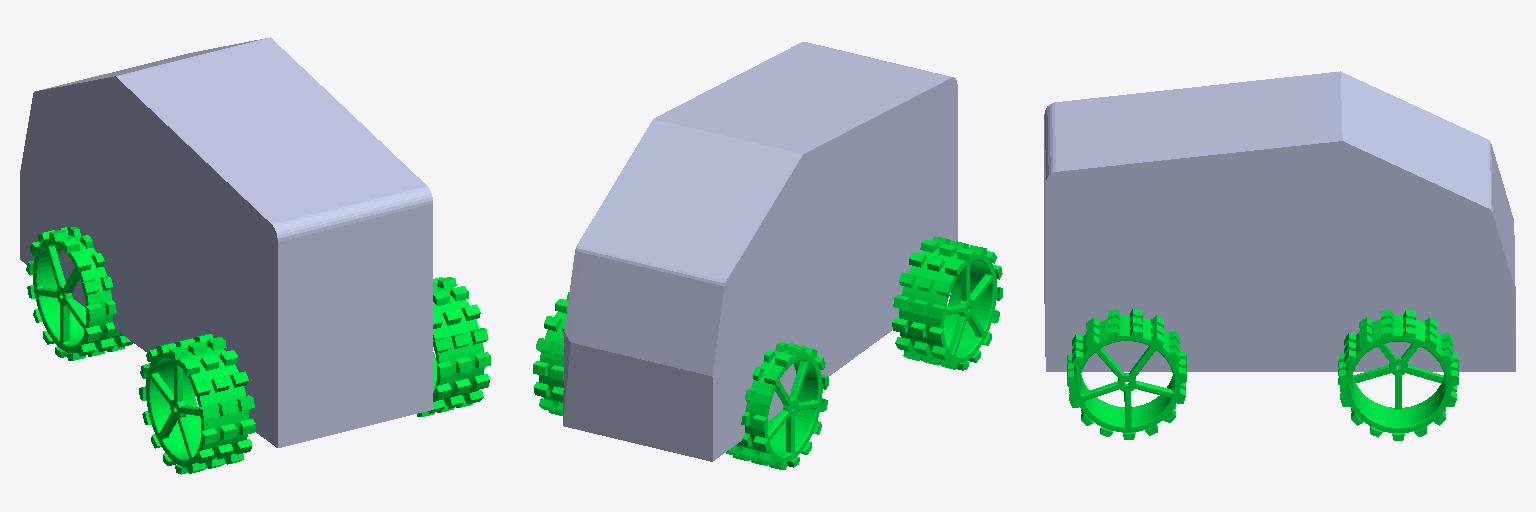
The robot description file, URDF, robot "main_car":
<?xml version="1.0" encoding="utf-8"?>
<!-- This URDF was automatically created by SolidWorks to URDF Exporter! Originally created by Stephen Brawner (brawner@gmail.com) 
     Commit Version: 1.6.0-4-g7f85cfe  Build Version: 1.6.7995.38578
     For more information, please see http://wiki.ros.org/sw_urdf_exporter -->
<robot
  name="main_car">
  <link
    name="base_link">
    <inertial>
      <origin
        xyz="0.0530673653634435 0.091337893593515 0.0594021087043407"
        rpy="0 0 0" />
      <mass
        value="0.616866978201299" />
      <inertia
        ixx="0.00451892150568516"
        ixy="-4.61819811352611E-08"
        ixz="-2.58614294696865E-09"
        iyy="0.000759940780752405"
        iyz="-0.000120732123334739"
        izz="0.00403473432084843" />
    </inertial>
    <visual>
      <origin
        xyz="0 0 0"
        rpy="0 0 0" />
      <geometry>
        <mesh
          filename="package://main_car/meshes/base_link.STL" />
      </geometry>
      <material
        name="">
        <color
          rgba="0.792156862745098 0.819607843137255 0.933333333333333 1" />
      </material>
    </visual>
    <collision>
      <origin
        xyz="0 0 0"
        rpy="0 0 0" />
      <geometry>
        <mesh
          filename="package://main_car/meshes/base_link.STL" />
      </geometry>
    </collision>
  </link>
  <link
    name="front_left_wheel_rot">
    <inertial>
      <origin
        xyz="0.0140059336705225 -0.000298132524582662 2.0135971015578E-11"
        rpy="0 0 0" />
      <mass
        value="0.0632357163080549" />
      <inertia
        ixx="9.19085546063061E-05"
        ixy="-8.09825500043694E-07"
        ixz="1.25132504922793E-14"
        iyy="5.38810910412805E-05"
        iyz="2.26921494959108E-14"
        izz="5.38638529227305E-05" />
    </inertial>
    <visual>
      <origin
        xyz="0 0 0"
        rpy="0 0 0" />
      <geometry>
        <mesh
          filename="package://main_car/meshes/front_left_wheel_rot.STL" />
      </geometry>
      <material
        name="">
        <color
          rgba="0 0.96078431372549 0.298039215686275 1" />
      </material>
    </visual>
    <collision>
      <origin
        xyz="0 0 0"
        rpy="0 0 0" />
      <geometry>
        <mesh
          filename="package://main_car/meshes/front_left_wheel_rot.STL" />
      </geometry>
    </collision>
  </link>
  <joint
    name="front_left_wheel_rot_j"
    type="continuous">
    <origin
      xyz="-0.0212429479041969 0.211254558119221 0.0117"
      rpy="0 0 0" />
    <parent
      link="base_link" />
    <child
      link="front_left_wheel_rot" />
    <axis
      xyz="0.999773526729787 -0.0212813357260371 0" />
  </joint>
  <link
    name="front_right_wheel_rot">
    <inertial>
      <origin
        xyz="-0.0140091063539903 3.84884683179987E-07 2.00283227502762E-11"
        rpy="0 0 0" />
      <mass
        value="0.063235716308098" />
      <inertia
        ixx="9.1925792684697E-05"
        ixy="-1.04565885402228E-09"
        ixz="-1.11220426362072E-14"
        iyy="5.38638529697828E-05"
        iyz="2.26052393516739E-14"
        izz="5.38638529842843E-05" />
    </inertial>
    <visual>
      <origin
        xyz="0 0 0"
        rpy="0 0 0" />
      <geometry>
        <mesh
          filename="package://main_car/meshes/front_right_wheel_rot.STL" />
      </geometry>
      <material
        name="">
        <color
          rgba="0 0.96078431372549 0.298039215686275 1" />
      </material>
    </visual>
    <collision>
      <origin
        xyz="0 0 0"
        rpy="0 0 0" />
      <geometry>
        <mesh
          filename="package://main_car/meshes/front_right_wheel_rot.STL" />
      </geometry>
    </collision>
  </link>
  <joint
    name="front_right_wheel_rot_j"
    type="continuous">
    <origin
      xyz="0.131 0.21075 0.0117"
      rpy="0 0 0" />
    <parent
      link="base_link" />
    <child
      link="front_right_wheel_rot" />
    <axis
      xyz="0.99977 -0.021281 0" />
  </joint>
  <link
    name="back_right_wheel_rot">
    <inertial>
      <origin
        xyz="-0.0140091063592719 2.58148277060277E-11 2.29432965681564E-12"
        rpy="0 0 0" />
      <mass
        value="0.0632357163080607" />
      <inertia
        ixx="9.19257927656535E-05"
        ixy="-2.17969582614652E-14"
        ixz="3.00934958865257E-15"
        iyy="5.38638529938994E-05"
        iyz="-1.47880436948043E-15"
        izz="5.38638529836592E-05" />
    </inertial>
    <visual>
      <origin
        xyz="0 0 0"
        rpy="0 0 0" />
      <geometry>
        <mesh
          filename="package://main_car/meshes/back_right_wheel_rot.STL" />
      </geometry>
      <material
        name="">
        <color
          rgba="0 0.96078431372549 0.298039215686275 1" />
      </material>
    </visual>
    <collision>
      <origin
        xyz="0 0 0"
        rpy="0 0 0" />
      <geometry>
        <mesh
          filename="package://main_car/meshes/back_right_wheel_rot.STL" />
      </geometry>
    </collision>
  </link>
  <joint
    name="back_right_wheel_rot_j"
    type="continuous">
    <origin
      xyz="0.16615 0.0085 0.0147"
      rpy="0 0 0" />
    <parent
      link="base_link" />
    <child
      link="back_right_wheel_rot" />
    <axis
      xyz="1 0 0" />
  </joint>
  <link
    name="back_left_wheel_rot">
    <inertial>
      <origin
        xyz="0.0140091063592776 2.88695456429622E-11 -1.99775005566005E-11"
        rpy="0 0 0" />
      <mass
        value="0.0632357163080669" />
      <inertia
        ixx="9.19257927664119E-05"
        ixy="2.78823040490674E-14"
        ixz="-1.11055930818235E-14"
        iyy="5.38638529869598E-05"
        iyz="-1.53344977748203E-17"
        izz="5.38638529913604E-05" />
    </inertial>
    <visual>
      <origin
        xyz="0 0 0"
        rpy="0 0 0" />
      <geometry>
        <mesh
          filename="package://main_car/meshes/back_left_wheel_rot.STL" />
      </geometry>
      <material
        name="">
        <color
          rgba="0 0.96078431372549 0.298039215686275 1" />
      </material>
    </visual>
    <collision>
      <origin
        xyz="0 0 0"
        rpy="0 0 0" />
      <geometry>
        <mesh
          filename="package://main_car/meshes/back_left_wheel_rot.STL" />
      </geometry>
    </collision>
  </link>
  <joint
    name="back_left_wheel_rot_j"
    type="continuous">
    <origin
      xyz="-0.0488500000002041 0.00849999999999978 0.0147000000000001"
      rpy="0 0 0" />
    <parent
      link="base_link" />
    <child
      link="back_left_wheel_rot" />
    <axis
      xyz="1 0 0" />
  </joint>
  <link
    name="front_left_wheel_steer">
    <inertial>
      <origin
        xyz="0.0140059336705225 -0.000298132524582634 2.01359692808545E-11"
        rpy="0 0 0" />
      <mass
        value="0.0632357163080549" />
      <inertia
        ixx="9.19085546063061E-05"
        ixy="-8.09825500043695E-07"
        ixz="1.25132506942277E-14"
        iyy="5.38810910412805E-05"
        iyz="2.2692149103525E-14"
        izz="5.38638529227305E-05" />
    </inertial>
    <visual>
      <origin
        xyz="0 0 0"
        rpy="0 0 0" />
      <geometry>
        <mesh
          filename="package://main_car/meshes/front_left_wheel_steer.STL" />
      </geometry>
      <material
        name="">
        <color
          rgba="0 0.96078431372549 0.298039215686275 1" />
      </material>
    </visual>
    <collision>
      <origin
        xyz="0 0 0"
        rpy="0 0 0" />
      <geometry>
        <mesh
          filename="package://main_car/meshes/front_left_wheel_steer.STL" />
      </geometry>
    </collision>
  </link>
  <joint
    name="front_left_wheel_steer_j"
    type="revolute">
    <origin
      xyz="-0.021243 0.21125 0.0117"
      rpy="0 0 0" />
    <parent
      link="base_link" />
    <child
      link="front_left_wheel_steer" />
    <axis
      xyz="0 0 -1" />
    <limit
      lower="5.6723"
      upper="0.61087"
      effort="0"
      velocity="0.5" />
  </joint>
  <link
    name="front_right_wheel_steer">
    <inertial>
      <origin
        xyz="-0.0140091063539903 3.84884683179987E-07 2.00283210155527E-11"
        rpy="0 0 0" />
      <mass
        value="0.063235716308098" />
      <inertia
        ixx="9.1925792684697E-05"
        ixy="-1.04565885402314E-09"
        ixz="-1.11220428123062E-14"
        iyy="5.38638529697828E-05"
        iyz="2.26052384346766E-14"
        izz="5.38638529842843E-05" />
    </inertial>
    <visual>
      <origin
        xyz="0 0 0"
        rpy="0 0 0" />
      <geometry>
        <mesh
          filename="package://main_car/meshes/front_right_wheel_steer.STL" />
      </geometry>
      <material
        name="">
        <color
          rgba="0 0.96078431372549 0.298039215686275 1" />
      </material>
    </visual>
    <collision>
      <origin
        xyz="0 0 0"
        rpy="0 0 0" />
      <geometry>
        <mesh
          filename="package://main_car/meshes/front_right_wheel_steer.STL" />
      </geometry>
    </collision>
  </link>
  <joint
    name="front_right_wheel_steer_j"
    type="revolute">
    <origin
      xyz="0.131 0.21075 0.0117"
      rpy="0 0 0" />
    <parent
      link="base_link" />
    <child
      link="front_right_wheel_steer" />
    <axis
      xyz="0 0 -1" />
    <limit
      lower="5.6723"
      upper="0.61087"
      effort="0"
      velocity="0.5" />
  </joint>
</robot>

--- Render facts (derived) ---
Views: 3 orthographic renders of the robot side by side, from view 1: azimuth 30°, elevation 25°; view 2: azimuth 150°, elevation 25°; view 3: azimuth 270°, elevation 25°.
Robot: main_car — 7 links, 6 joints (2 revolute, 4 continuous); root link base_link; default pose: joints at zero except 2 at the middle of their limits (front_left_wheel_steer_j = 3.14, front_right_wheel_steer_j = 3.14).
Visible links, largest first — view 1: base_link, back_left_wheel_rot, front_left_wheel_rot, back_right_wheel_rot; view 2: base_link, back_left_wheel_rot, front_left_wheel_rot, front_right_wheel_steer; view 3: base_link, front_right_wheel_steer, back_right_wheel_rot.
Boxes of the visible links, x1,y1,x2,y2 form: base_link: (20, 37, 432, 447); back_left_wheel_rot: (139, 334, 255, 474); front_left_wheel_rot: (26, 227, 132, 360); back_right_wheel_rot: (417, 277, 490, 416); base_link: (563, 42, 957, 461); back_left_wheel_rot: (892, 236, 1002, 370); front_left_wheel_rot: (726, 342, 828, 469); front_right_wheel_steer: (533, 292, 568, 415); base_link: (1044, 71, 1515, 371); front_right_wheel_steer: (1338, 309, 1458, 440); back_right_wheel_rot: (1067, 309, 1186, 439).
Size in the robot's own frame: 0.225 by 0.351 by 0.2232 metres.
Meshes: 7 distinct files referenced, 5 mesh visuals loaded (5 binary STL); not drawn: 2 (reference not matched to a file when rendering).
